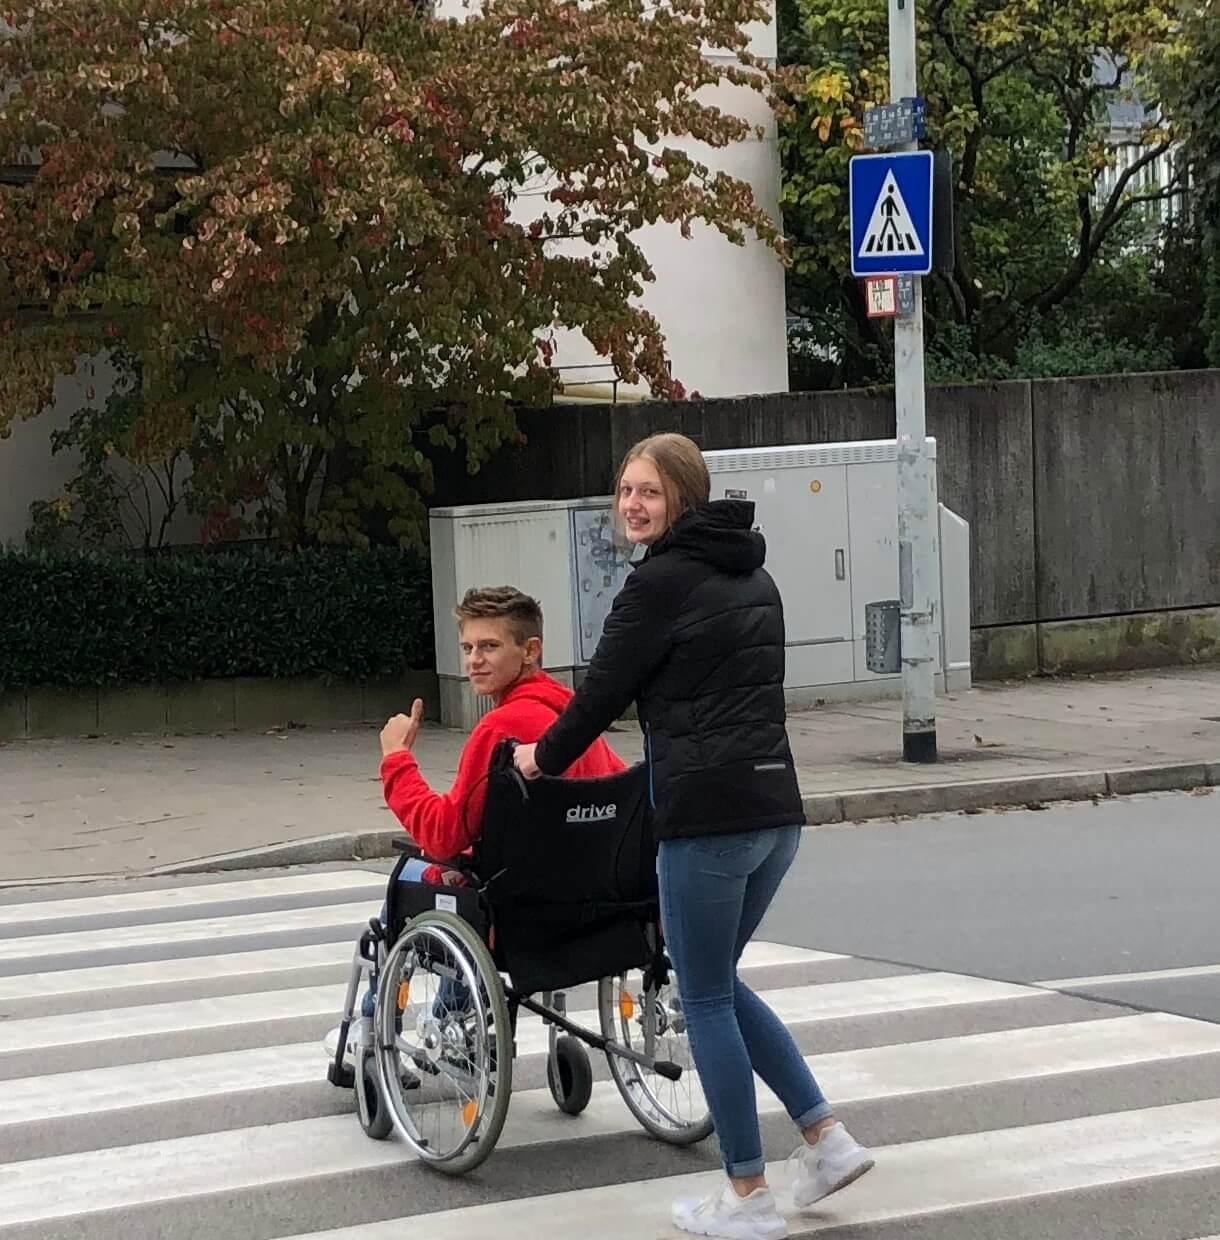push_wheelchair: (513, 435, 875, 1240)
wheelchair: (324, 585, 752, 1176)
